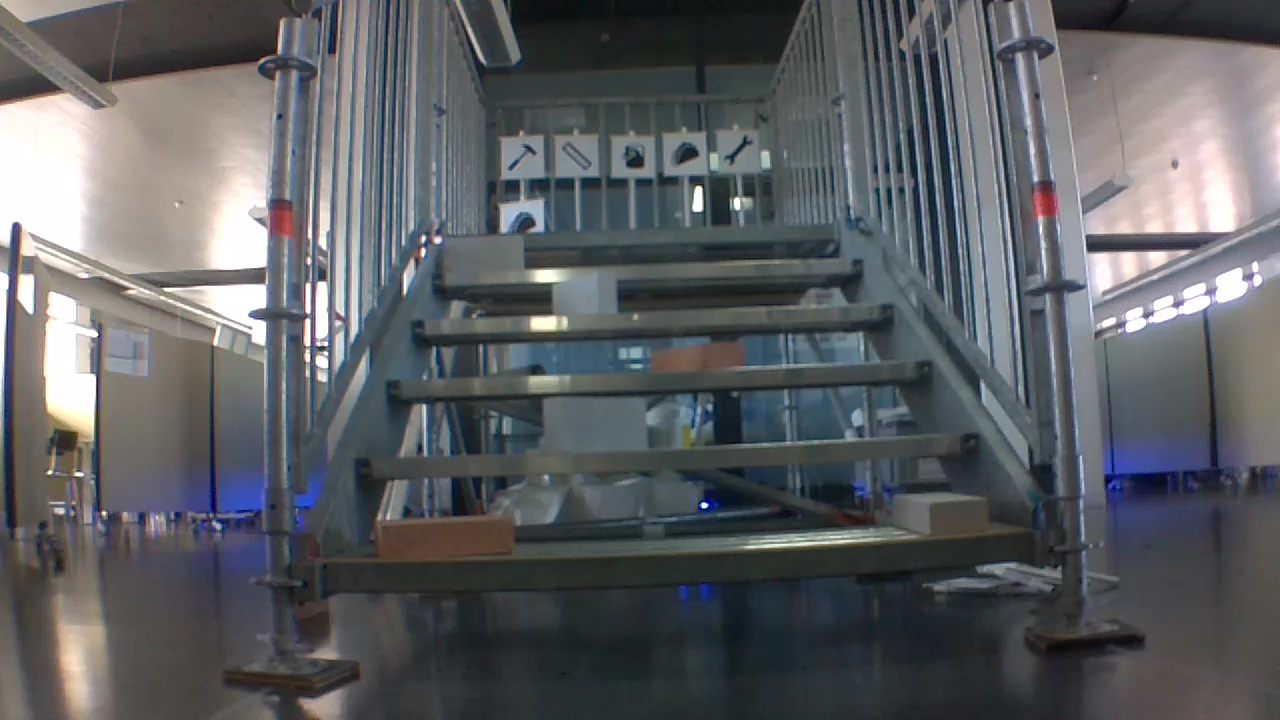brick: (376, 515, 511, 558), (542, 396, 645, 449), (895, 493, 986, 535), (444, 233, 523, 273), (552, 274, 615, 313), (649, 342, 743, 368)
bucket: (616, 140, 647, 170)
edge: (320, 532, 1040, 590), (357, 433, 978, 477), (389, 359, 930, 395), (412, 302, 891, 333), (433, 256, 863, 285), (445, 221, 838, 243)
hammer: (505, 140, 538, 176)
ruler: (557, 139, 592, 171)
stairs: (215, 3, 1147, 692)
steps: (318, 212, 1046, 604)
taco: (669, 137, 701, 169), (503, 206, 539, 230)
wrench: (719, 132, 756, 169)
